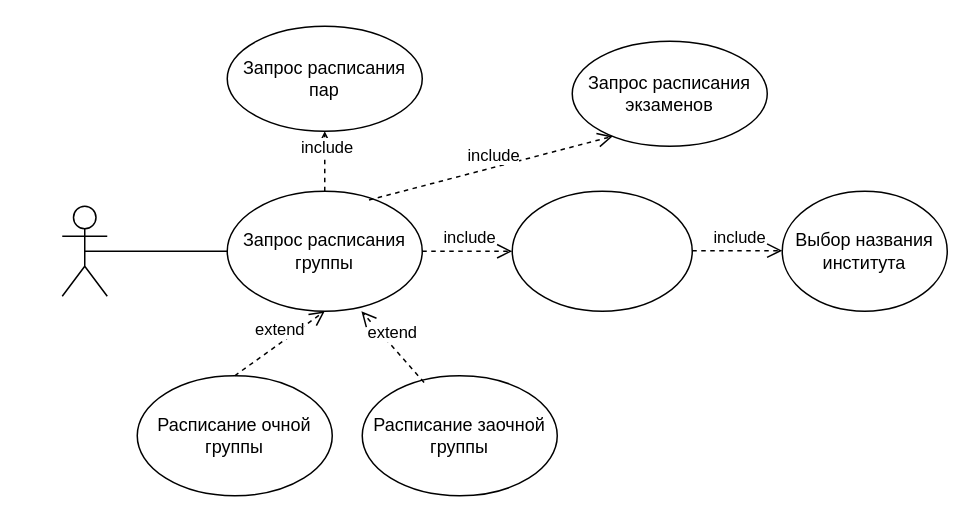
Some shapes in this 974 by 522 pixel diagram are drawn without their labels. The centre of each missing label's shape, as x and y in pixels:
Выбор названия группы: (x=601, y=250)
Пользователь: (x=84, y=250)
